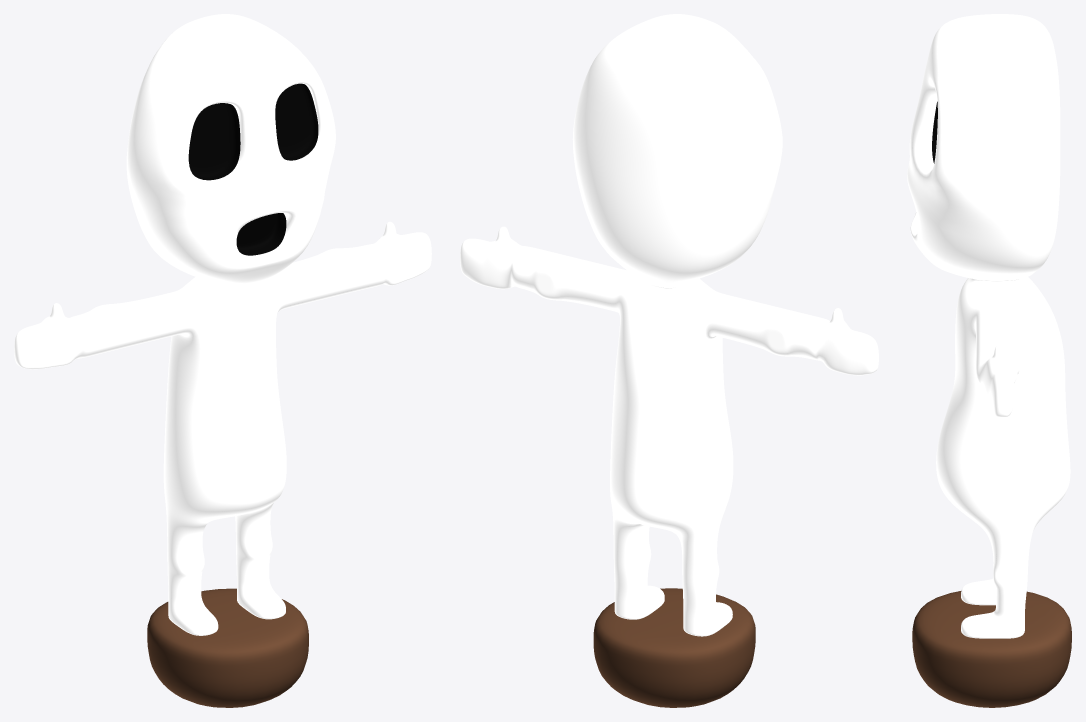
File: kodama.glb
The picture shows the model from 3 angles, left to right: view 1: azimuth 30°, elevation 25°; view 2: azimuth 150°, elevation 25°; view 3: azimuth 270°, elevation 25°; orthographic projection.
Visible parts, largest first — view 1: Kodama Final, Suelo; view 2: Kodama Final, Suelo; view 3: Kodama Final, Suelo.
Boxes of the visible parts, left/top/right/bottom form: Kodama Final: left=14, top=14, right=431, bottom=635; Suelo: left=147, top=588, right=308, bottom=707; Kodama Final: left=460, top=14, right=878, bottom=636; Suelo: left=593, top=588, right=755, bottom=707; Kodama Final: left=907, top=14, right=1070, bottom=638; Suelo: left=912, top=591, right=1071, bottom=707.
Bounding box in the file's own units: 2.33 × 3.58 × 0.796.
2 materials, 1 textured.
